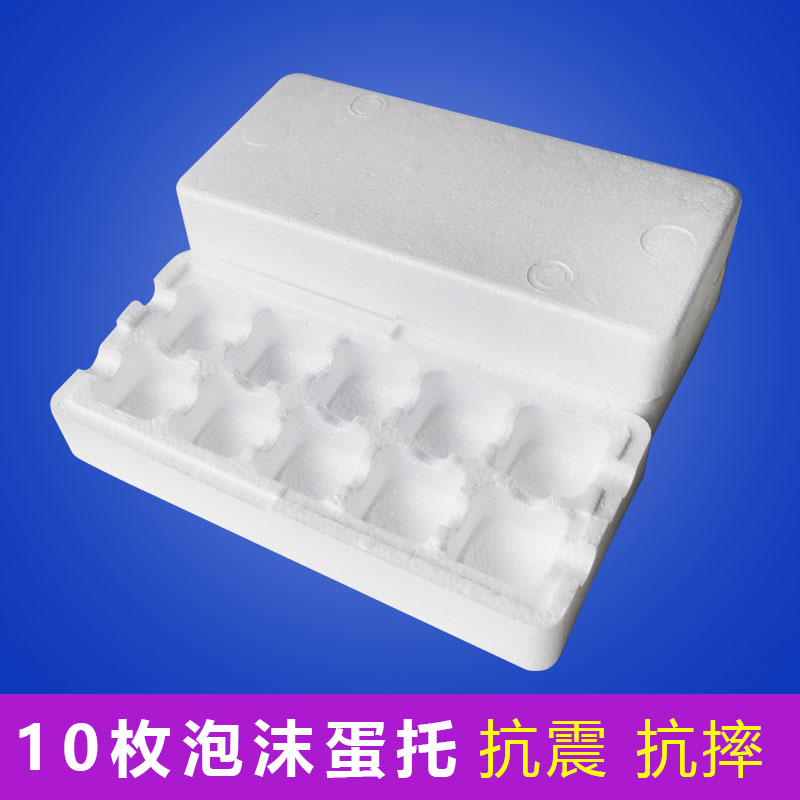Boxes: (53, 75, 740, 664)
